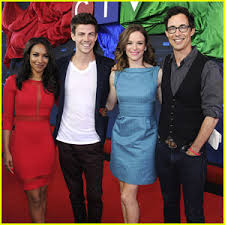Bad: (110, 6, 221, 222), (2, 13, 107, 222), (55, 13, 156, 225)
